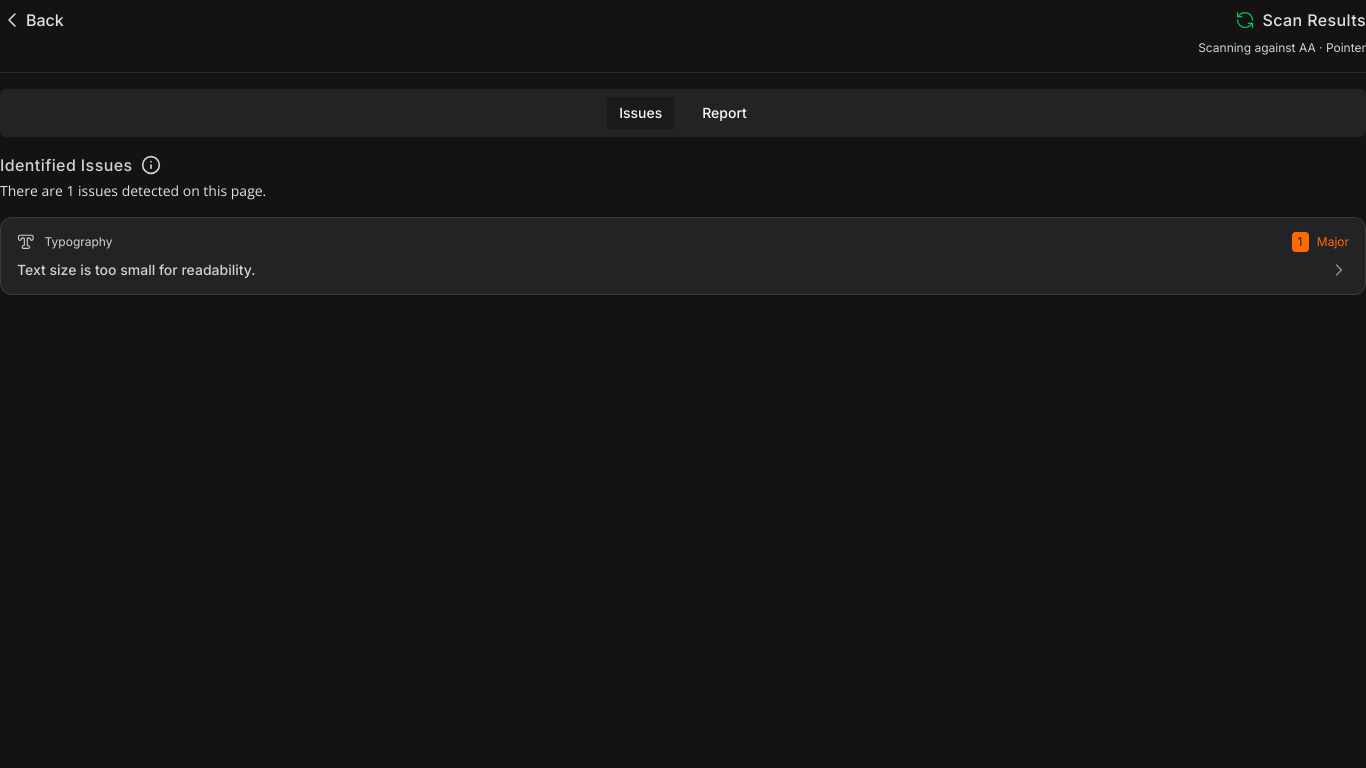
IssuesOverviewList › touch-target-skipped note › shows an info popover explaining touch-target checks are skipped when designing for Pointer
Click the button named "About Touch Target Checks Skipped" at (146, 165), box [132,155,160,175]
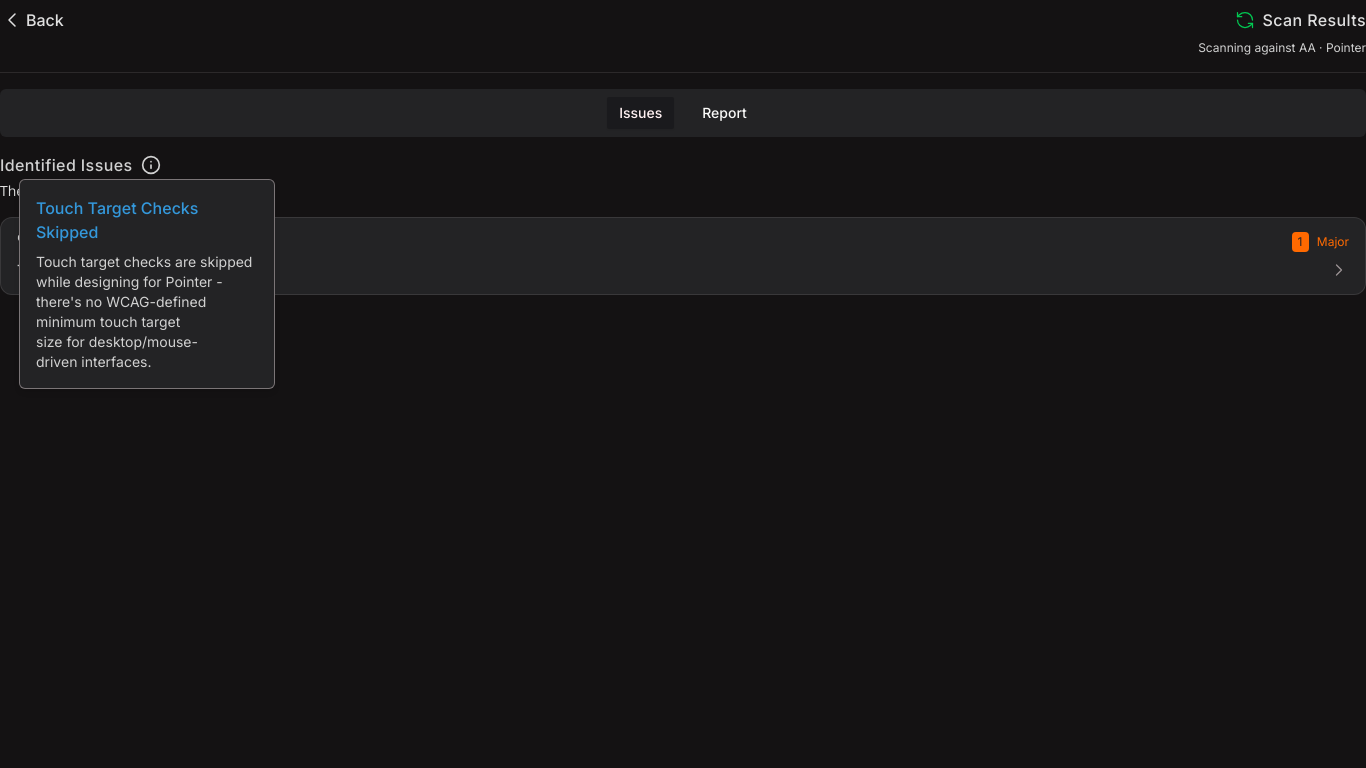
Now the text "Touch target checks are skipped" is shown, box [36,253,252,370]
